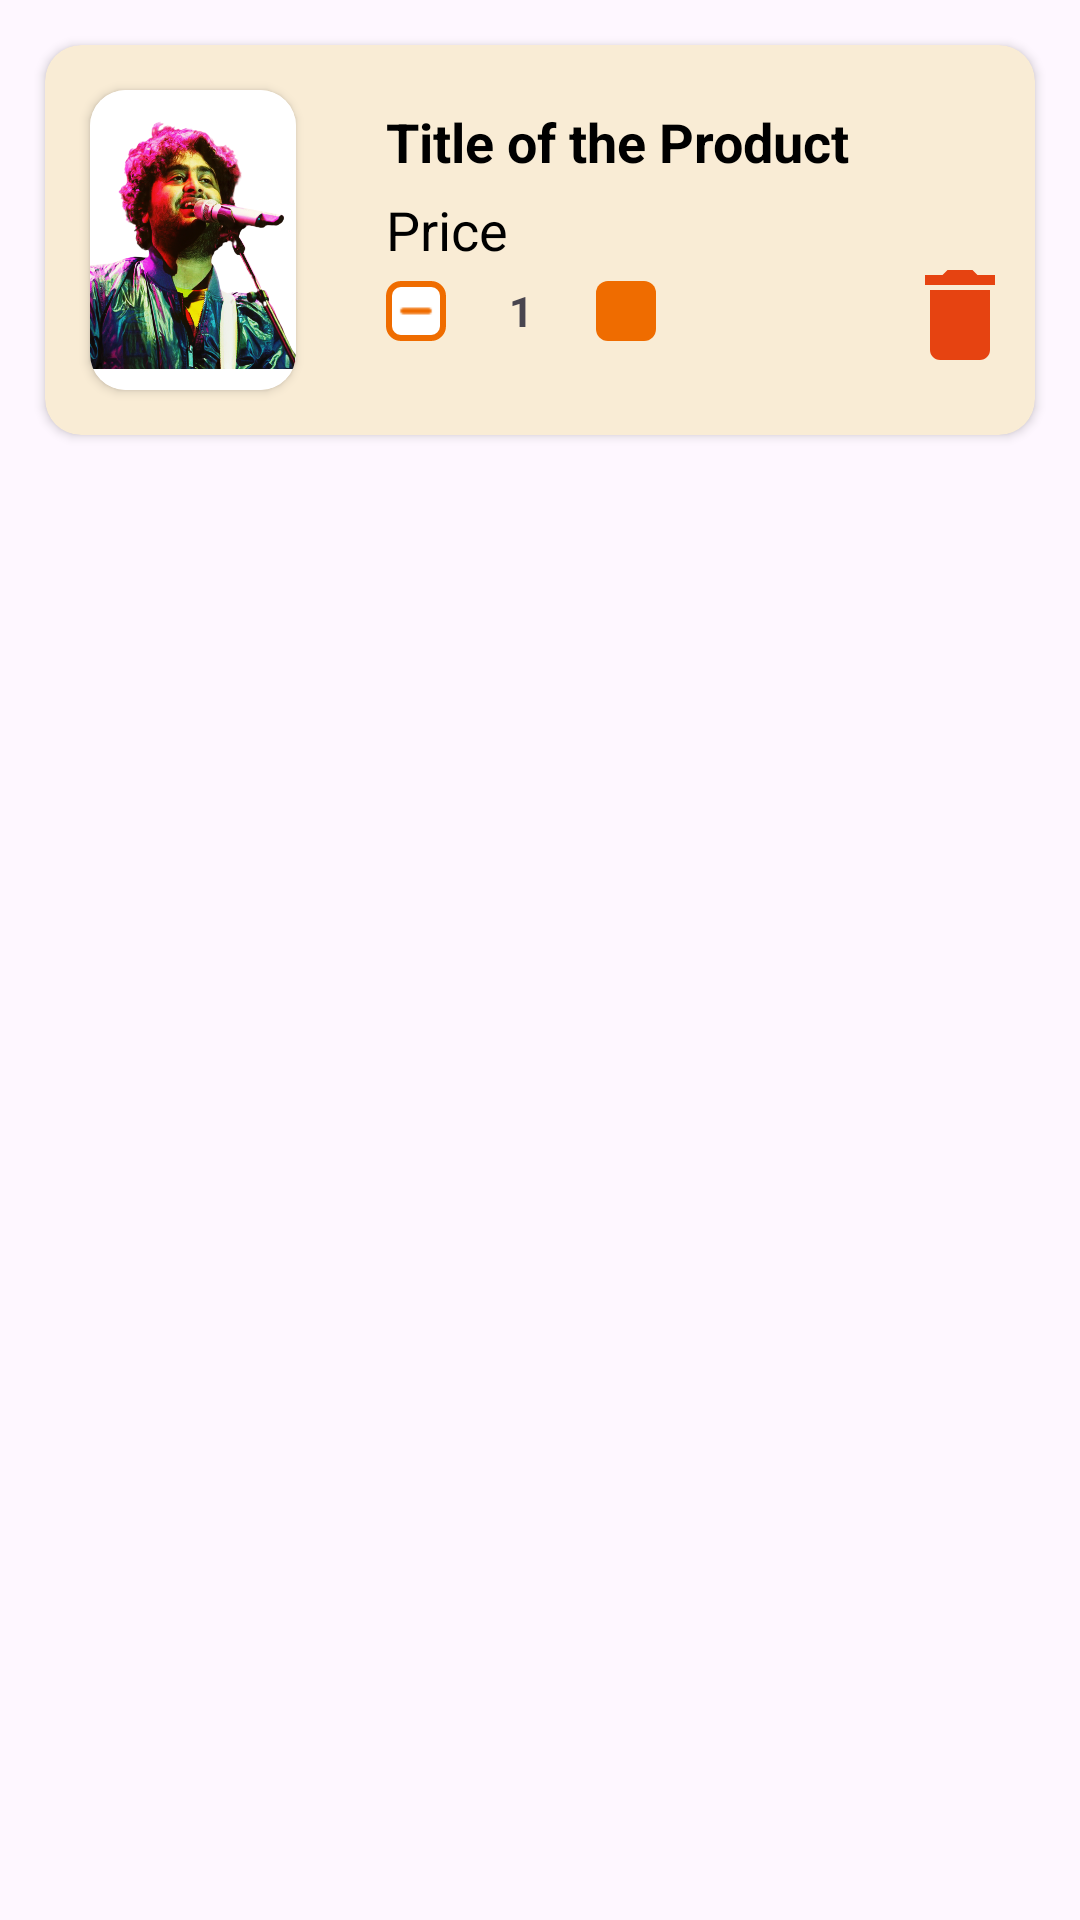

Point at icon controls on the screen. Image size 1080 × 1920, points as (x,y).
minus: (416,311)
